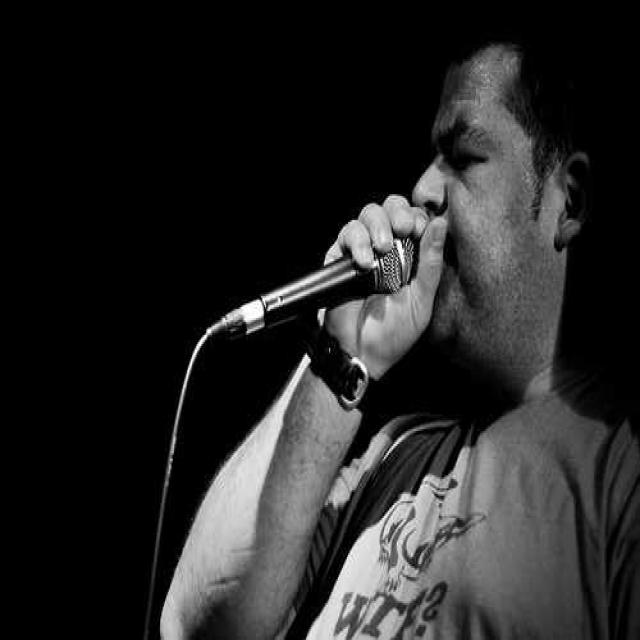microphone: (218, 232, 418, 340)
